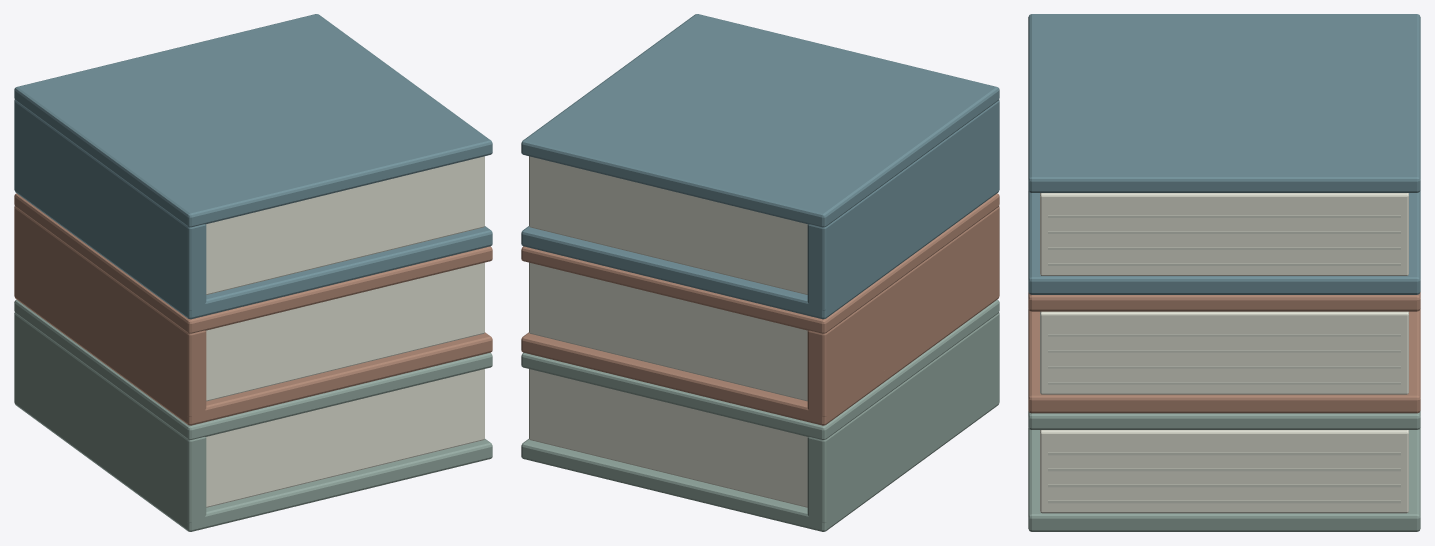
Rendered from office-books-editable.glb.
The picture shows the model from 3 angles, left to right: view 1: azimuth 30°, elevation 25°; view 2: azimuth 150°, elevation 25°; view 3: azimuth 270°, elevation 25°; orthographic projection. The views are drawn at different scales.
Parts seen in each view (by area): view 1: cloth cover.005, paper block, paper block.001, paper block.002, spine.002, spine, spine.001, cloth cover.002, cloth cover.004, cloth cover, cloth cover.003, cloth cover.001; view 2: cloth cover.005, paper block, paper block.001, paper block.002, spine, spine.001, spine.002, cloth cover.002, cloth cover, cloth cover.004, cloth cover.003, cloth cover.001; view 3: cloth cover.005, paper block.001, paper block, paper block.002, cloth cover.002, cloth cover, cloth cover.004, cloth cover.003, cloth cover.001, page seam, page seam.001, page seam.002 (+9 smaller).
Part boxes in pixels (bbox=[...]): cloth cover.005: bbox=[14, 14, 492, 227]; paper block: bbox=[206, 369, 484, 507]; paper block.001: bbox=[206, 262, 484, 401]; paper block.002: bbox=[206, 156, 484, 294]; spine.002: bbox=[14, 99, 206, 310]; spine: bbox=[14, 312, 206, 522]; spine.001: bbox=[14, 206, 206, 416]; cloth cover.002: bbox=[14, 287, 492, 425]; cloth cover.004: bbox=[14, 180, 492, 319]; cloth cover: bbox=[14, 393, 492, 531]; cloth cover.003: bbox=[14, 193, 492, 333]; cloth cover.001: bbox=[14, 299, 492, 439]; cloth cover.005: bbox=[521, 14, 999, 227]; paper block: bbox=[529, 369, 807, 507]; paper block.001: bbox=[529, 262, 807, 401]; paper block.002: bbox=[529, 156, 807, 294]; spine: bbox=[807, 312, 999, 522]; spine.001: bbox=[807, 206, 999, 416]; spine.002: bbox=[807, 99, 999, 310]; cloth cover.002: bbox=[521, 287, 999, 425]; cloth cover: bbox=[521, 393, 999, 531]; cloth cover.004: bbox=[521, 180, 999, 319]; cloth cover.003: bbox=[521, 193, 999, 333]; cloth cover.001: bbox=[521, 299, 999, 439]; cloth cover.005: bbox=[1028, 14, 1420, 192]; paper block.001: bbox=[1040, 311, 1408, 394]; paper block: bbox=[1040, 430, 1408, 513]; paper block.002: bbox=[1040, 193, 1408, 275]; cloth cover.002: bbox=[1028, 309, 1420, 413]; cloth cover: bbox=[1028, 427, 1420, 531]; cloth cover.004: bbox=[1028, 190, 1420, 294]; cloth cover.003: bbox=[1028, 292, 1420, 311]; cloth cover.001: bbox=[1028, 411, 1420, 429]; page seam: bbox=[1048, 500, 1400, 503]; page seam.001: bbox=[1048, 484, 1400, 487]; page seam.002: bbox=[1048, 468, 1400, 471].
Bounding box in the file's own units: 1 × 0.9982 × 1.
